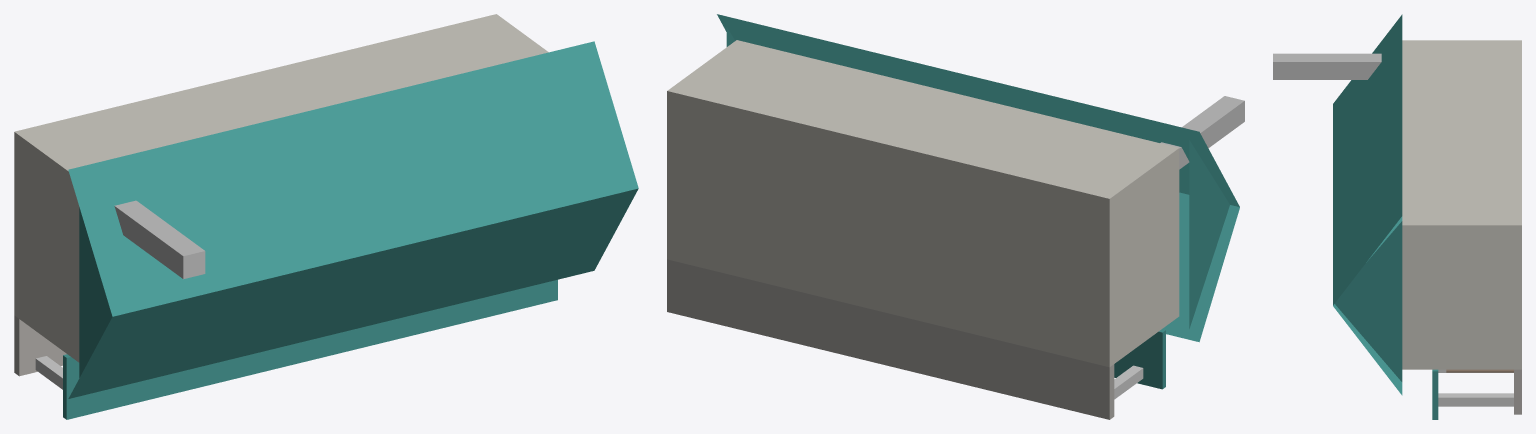
Rendered from school.glb.
The picture shows the model from 3 angles, left to right: view 1: azimuth 30°, elevation 25°; view 2: azimuth 150°, elevation 25°; view 3: azimuth 270°, elevation 25°; orthographic projection. The views are drawn at different scales.
Bounding box in the file's own units: 24 × 11.7 × 12.5.
